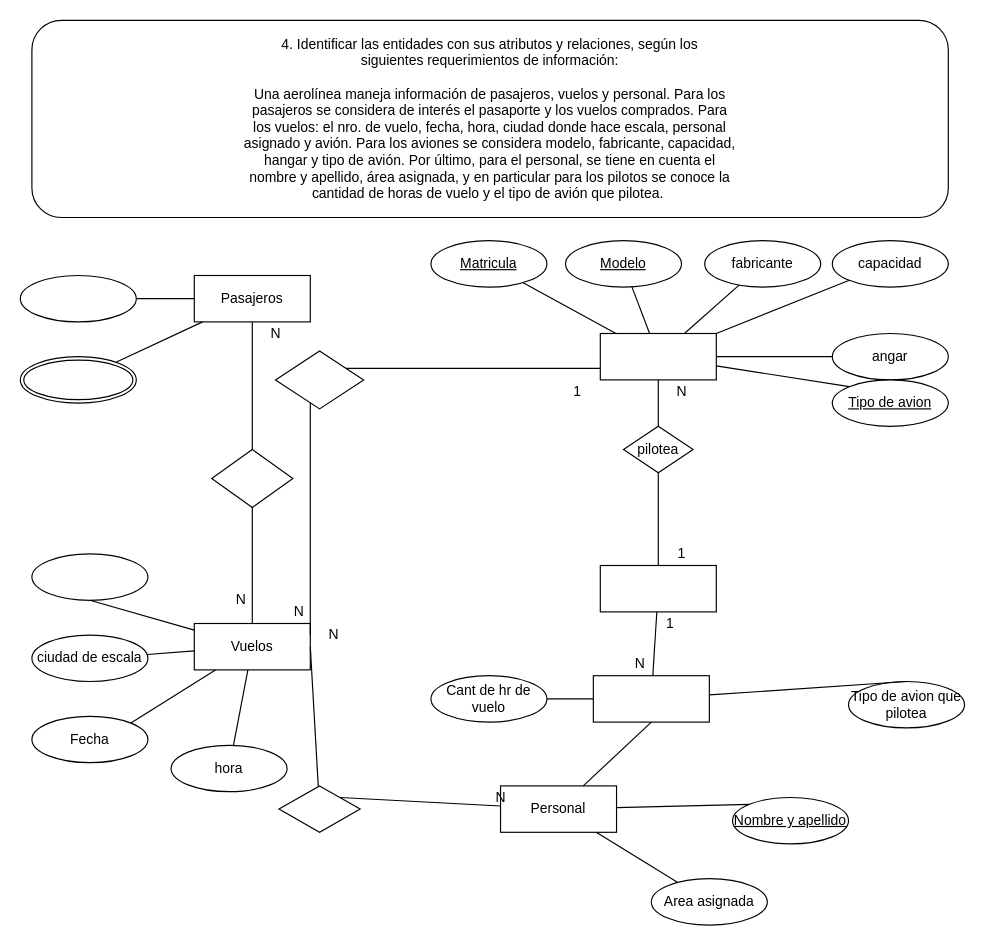
This 985x945 diagram has some shape labels left out. Here are the shapes that lost their labels. From the top down, the centre of each, then its label:
At point (77, 298): "Pasaporte".
At point (657, 356): "Aviones".
At point (77, 379): "Vuelos comprados".
At point (319, 379): "Asignado".
At point (252, 477): "Compra".
At point (89, 576): "nro Vuelo".
At point (657, 588): "Tipo".
At point (650, 698): "Pilotos".
At point (319, 808): "Asignado a".
